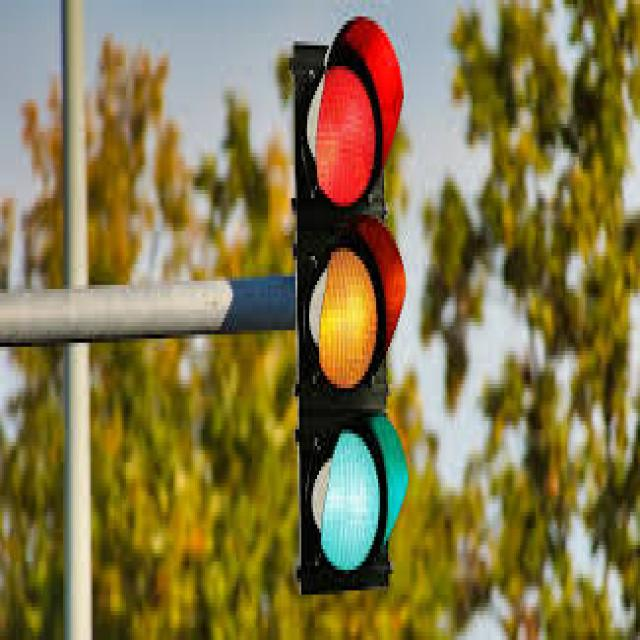Hijau: (320, 428, 380, 570)
Kuning: (319, 246, 377, 388)
Merah: (316, 65, 376, 204)
